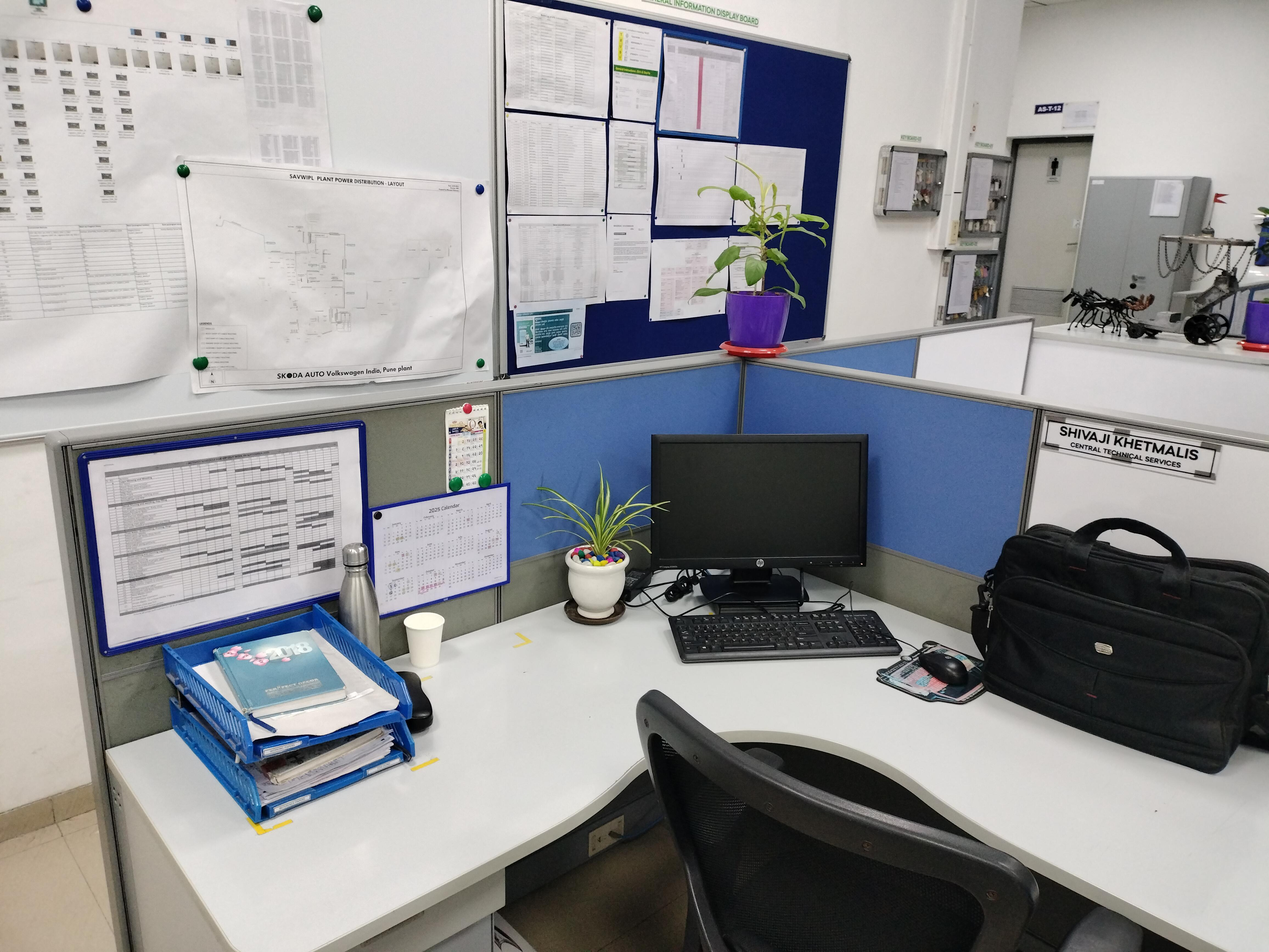bag: (970, 517, 1269, 774)
book: (213, 630, 349, 721)
bottle: (338, 542, 381, 657)
calender: (369, 482, 511, 621), (445, 402, 489, 493)
desktop: (649, 432, 869, 604)
filetray: (161, 600, 416, 826)
keyboard: (668, 610, 903, 663)
mouse: (918, 651, 969, 685)
mug: (403, 612, 446, 669)
nameplate: (1039, 413, 1224, 486)
page: (88, 428, 362, 649)
vase: (564, 544, 631, 620), (719, 290, 790, 358)
